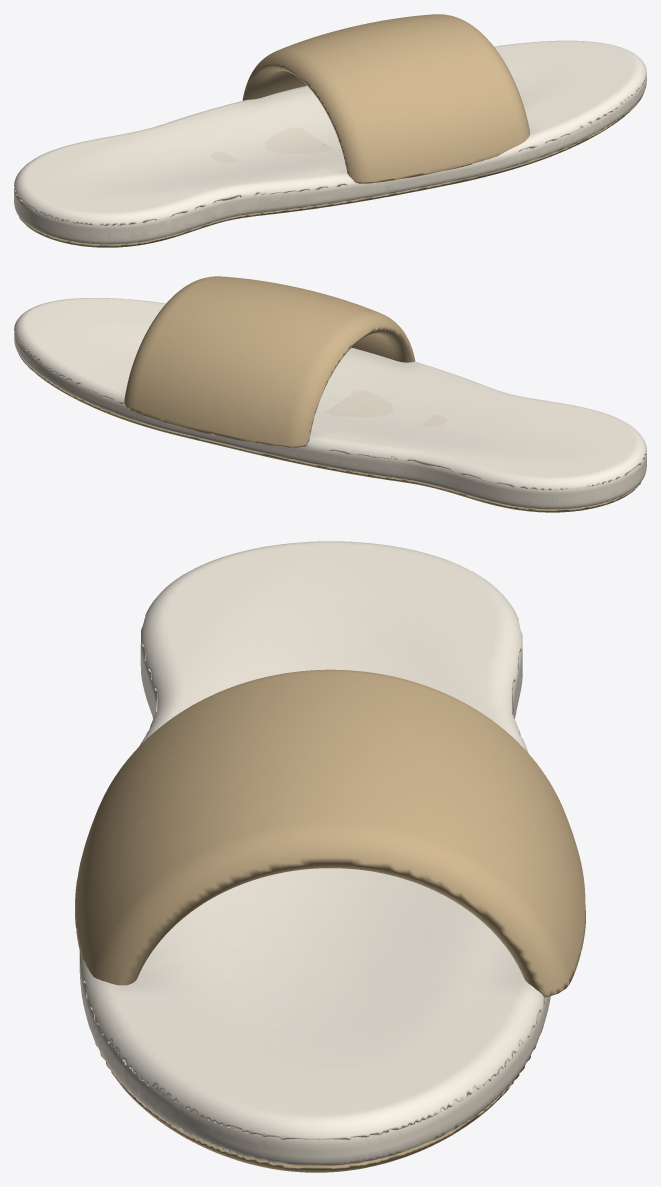
File: coastline-slide.glb
The picture shows the model from 3 angles, top to bottom: view 1: azimuth 30°, elevation 25°; view 2: azimuth 150°, elevation 25°; view 3: azimuth 270°, elevation 25°; orthographic projection. The views are drawn at different scales.
Parts seen in each view (by area): view 1: footbed, upper, midsole, outsole; view 2: footbed, upper, midsole, outsole; view 3: footbed, upper, midsole, outsole.
Part boxes in pixels (box(x1,y1,x2,y2)): footbed: box(14, 40, 646, 225); upper: box(242, 14, 529, 183); midsole: box(14, 75, 646, 244); outsole: box(19, 94, 643, 247); footbed: box(14, 298, 646, 490); upper: box(124, 276, 415, 447); midsole: box(14, 331, 646, 509); outsole: box(17, 351, 641, 512); footbed: box(79, 541, 544, 1140); upper: box(75, 669, 585, 997); midsole: box(79, 642, 550, 1166); outsole: box(95, 1043, 536, 1172).
Bounding box in the file's own units: 0.98 × 0.1662 × 0.3564.
